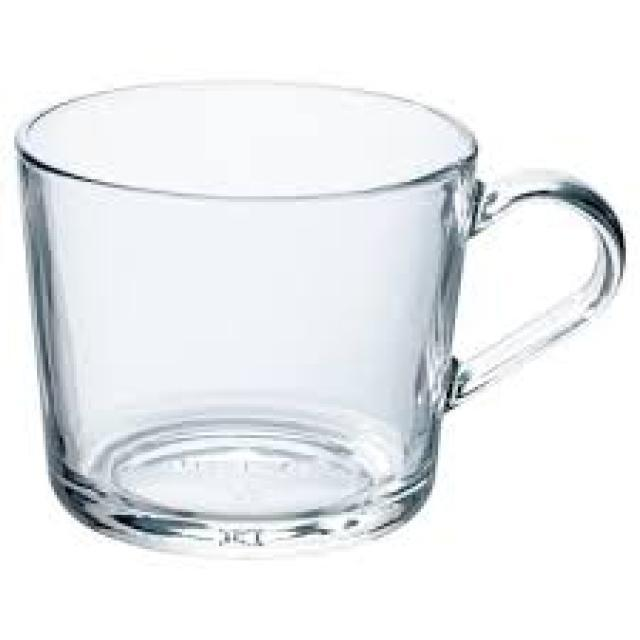Glass: (6, 55, 640, 554)
